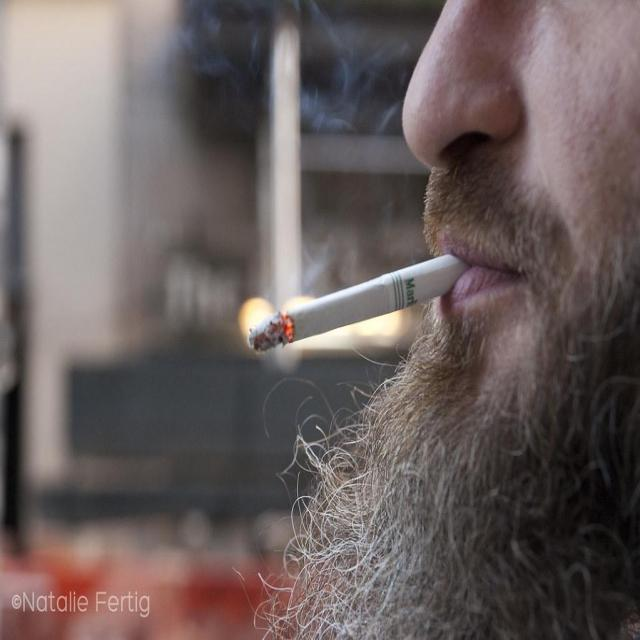Сигарета: (248, 253, 463, 357)
Тело: (390, 0, 640, 640)
